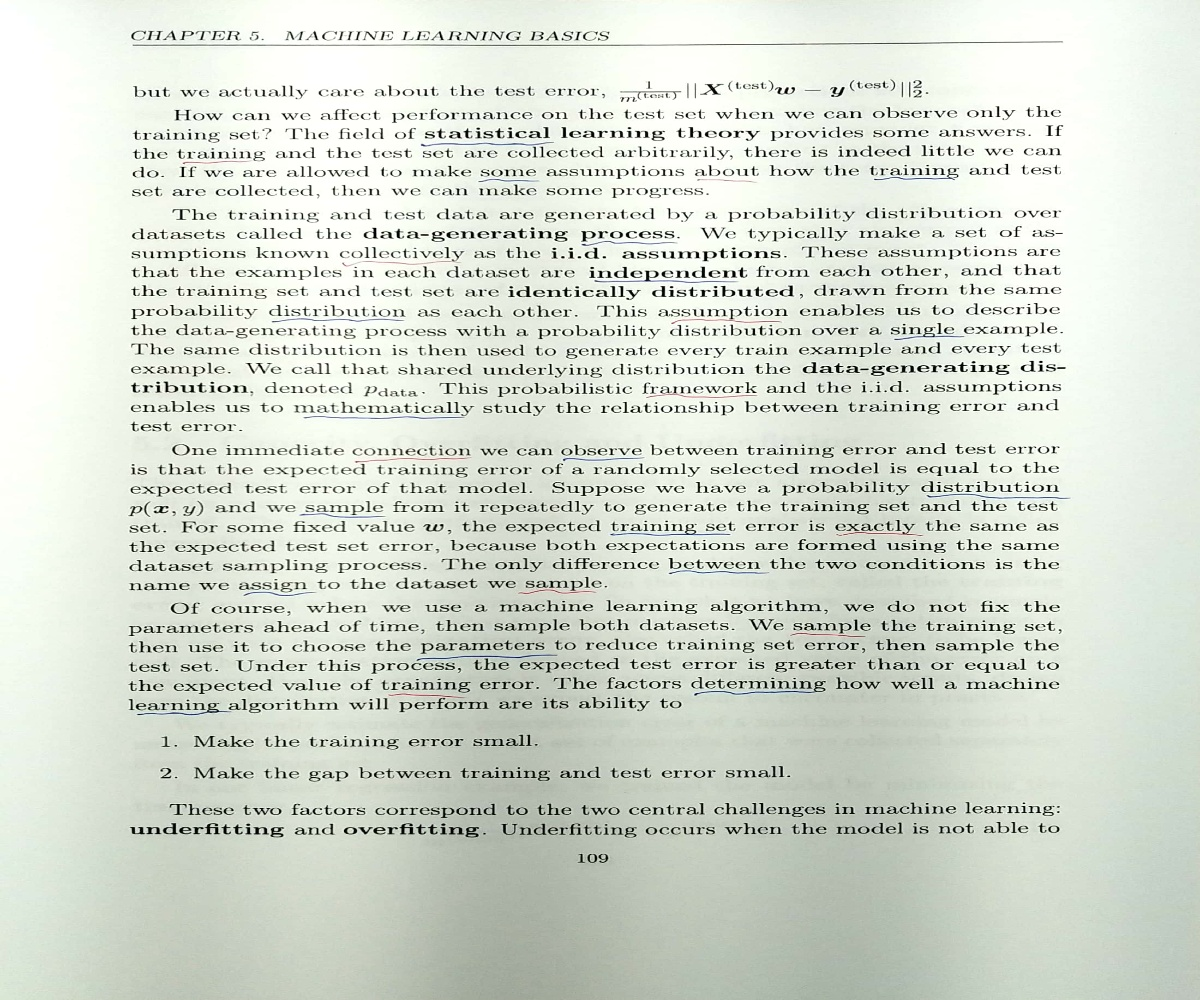underline: (302, 411, 469, 424), (691, 688, 823, 699), (591, 277, 742, 286), (922, 492, 1069, 501), (416, 651, 557, 660), (340, 256, 462, 266), (608, 530, 732, 539), (667, 567, 776, 577), (579, 237, 677, 248), (136, 709, 234, 720), (352, 454, 470, 463), (643, 392, 760, 401), (267, 317, 409, 324), (236, 589, 318, 600), (694, 174, 761, 187), (388, 689, 466, 700), (420, 140, 556, 146), (670, 317, 785, 324), (518, 588, 601, 597), (834, 530, 922, 538), (297, 512, 384, 520), (789, 631, 868, 639), (872, 175, 959, 182), (558, 455, 643, 462), (893, 333, 967, 341), (180, 158, 252, 166), (474, 177, 537, 185)
